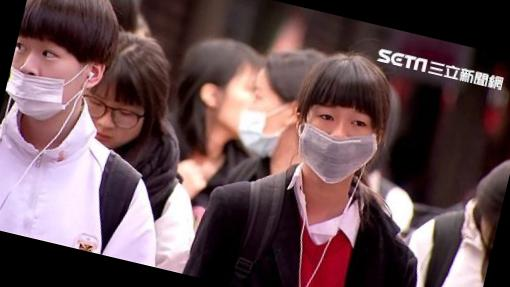mask_weared_incorrect: (1, 38, 92, 130)
with_mask: (290, 102, 385, 196), (228, 81, 291, 164)
without_mask: (71, 87, 149, 158)
